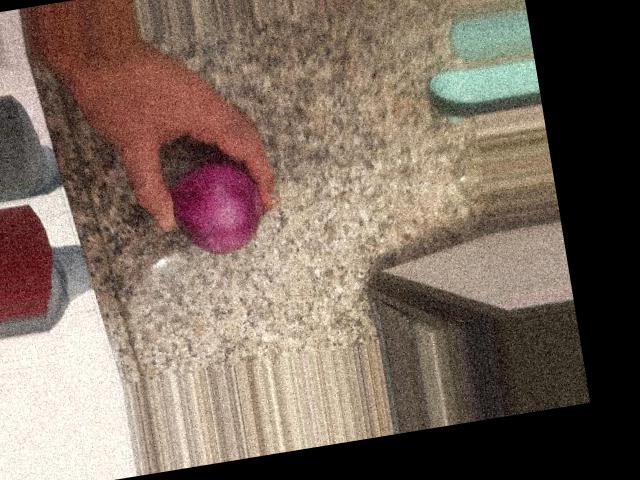onion: (136, 161, 284, 270)
